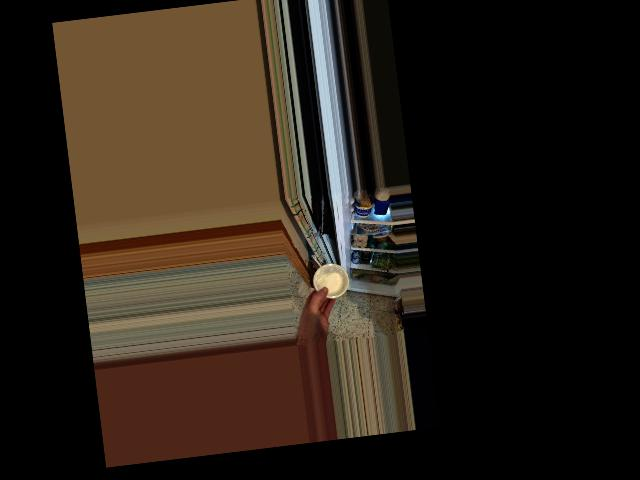cotage: (309, 264, 345, 302)
